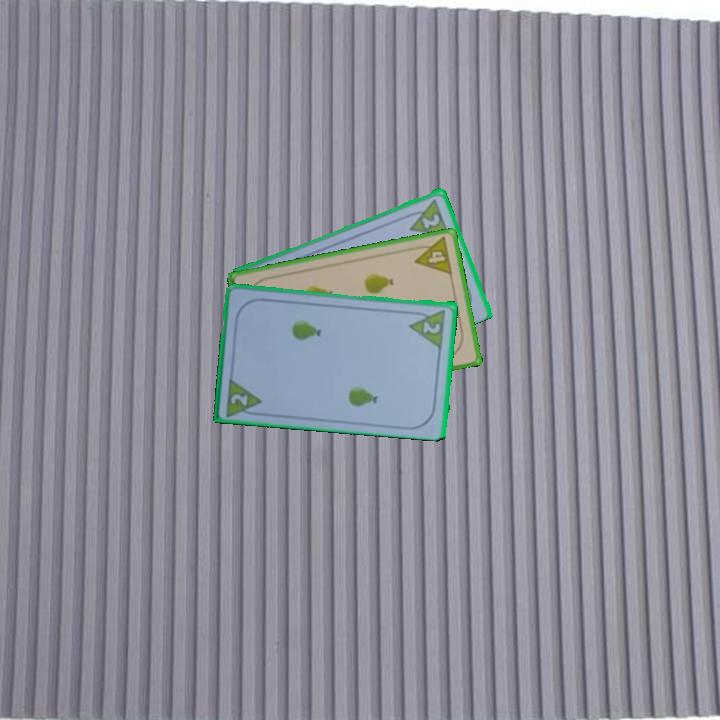2p: (402, 195, 452, 238), (223, 373, 265, 418), (420, 318, 444, 337)
4p: (409, 234, 455, 278)
